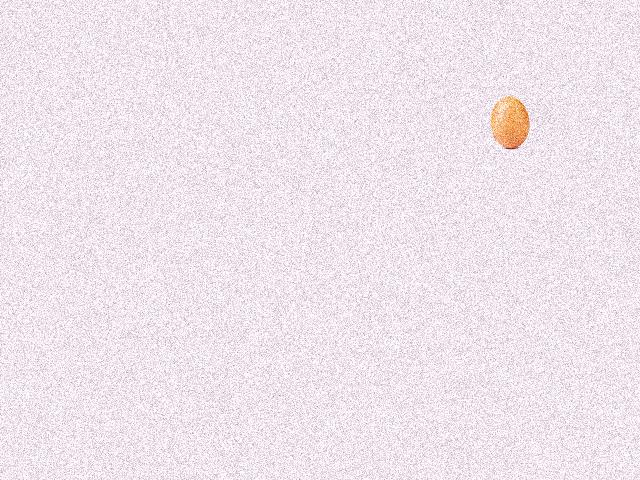egg: (491, 96, 529, 149)
